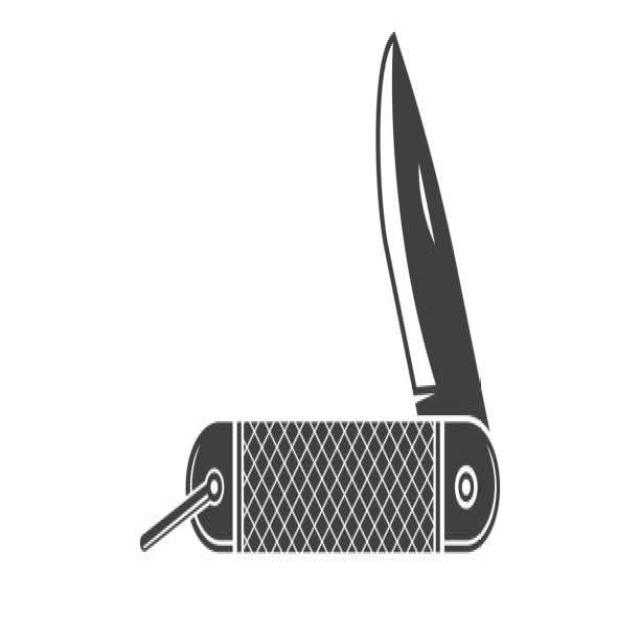knife: (125, 9, 513, 582)
